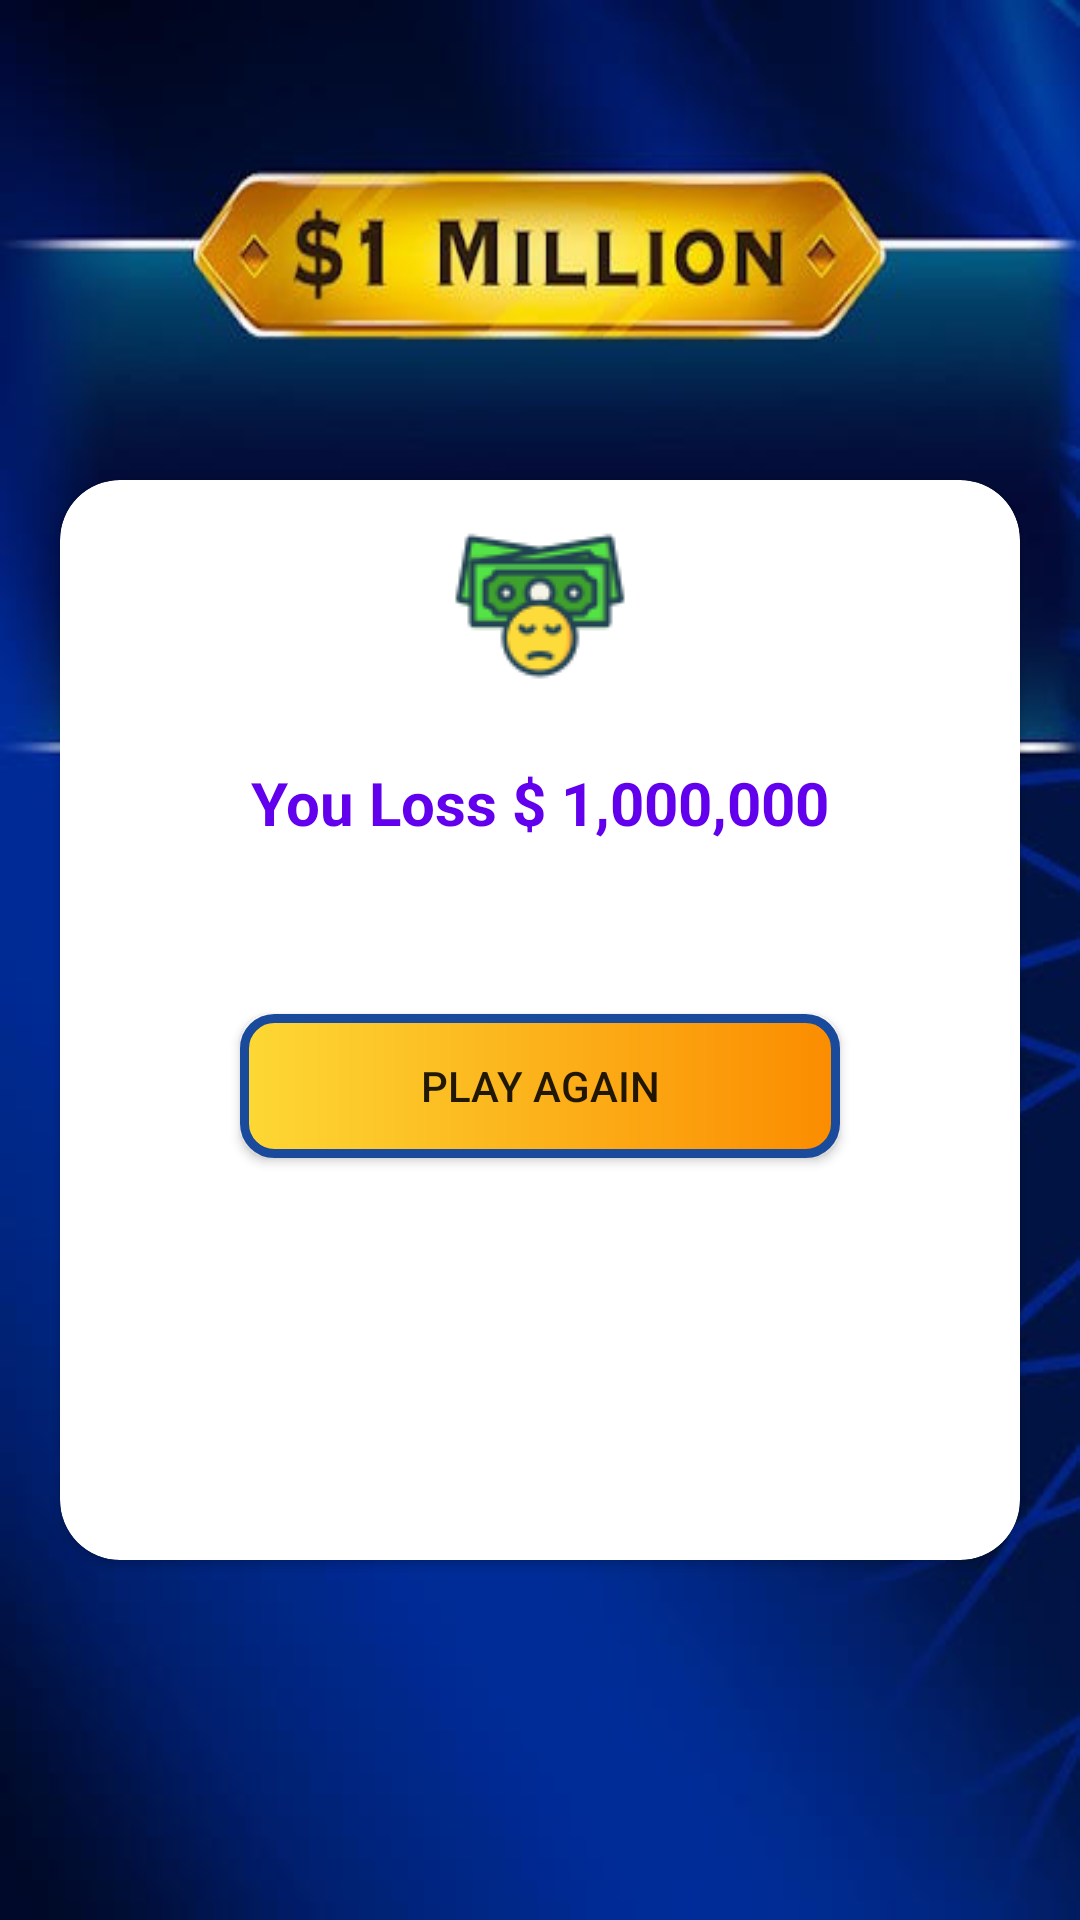

Where icons sit on this 1080 x 1920 app screen, as (x1, y1, x2, y2):
cash: (455, 533, 625, 679)
